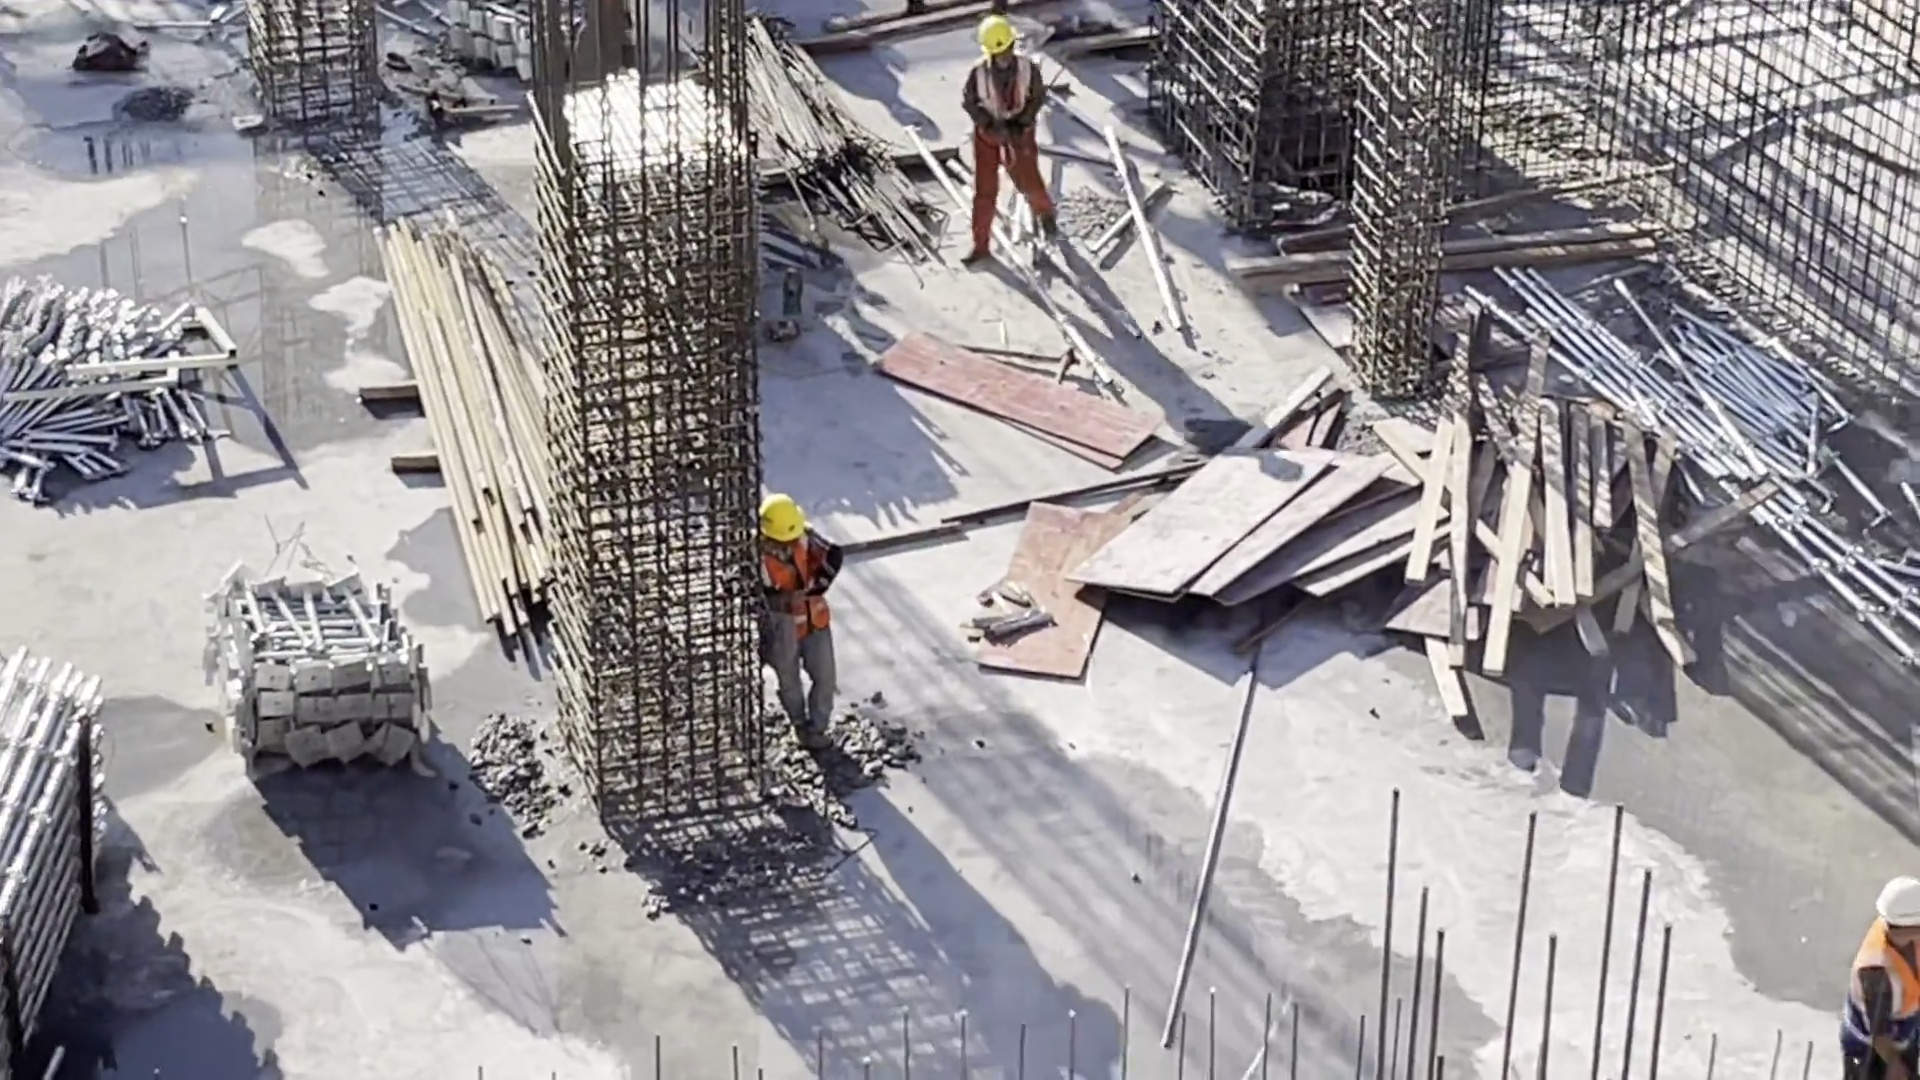board: (1080, 443, 1420, 624)
helmet: (1877, 879, 1920, 930), (970, 15, 1019, 52), (763, 493, 804, 535)
person: (734, 485, 877, 778), (937, 8, 1064, 263), (1837, 867, 1920, 1075)
scaffold: (1, 647, 121, 1070), (211, 568, 425, 781), (1, 266, 228, 454), (1654, 311, 1811, 479)
vest: (1839, 937, 1920, 1061), (752, 525, 846, 627), (965, 58, 1043, 139)
wood: (1418, 411, 1675, 636)
